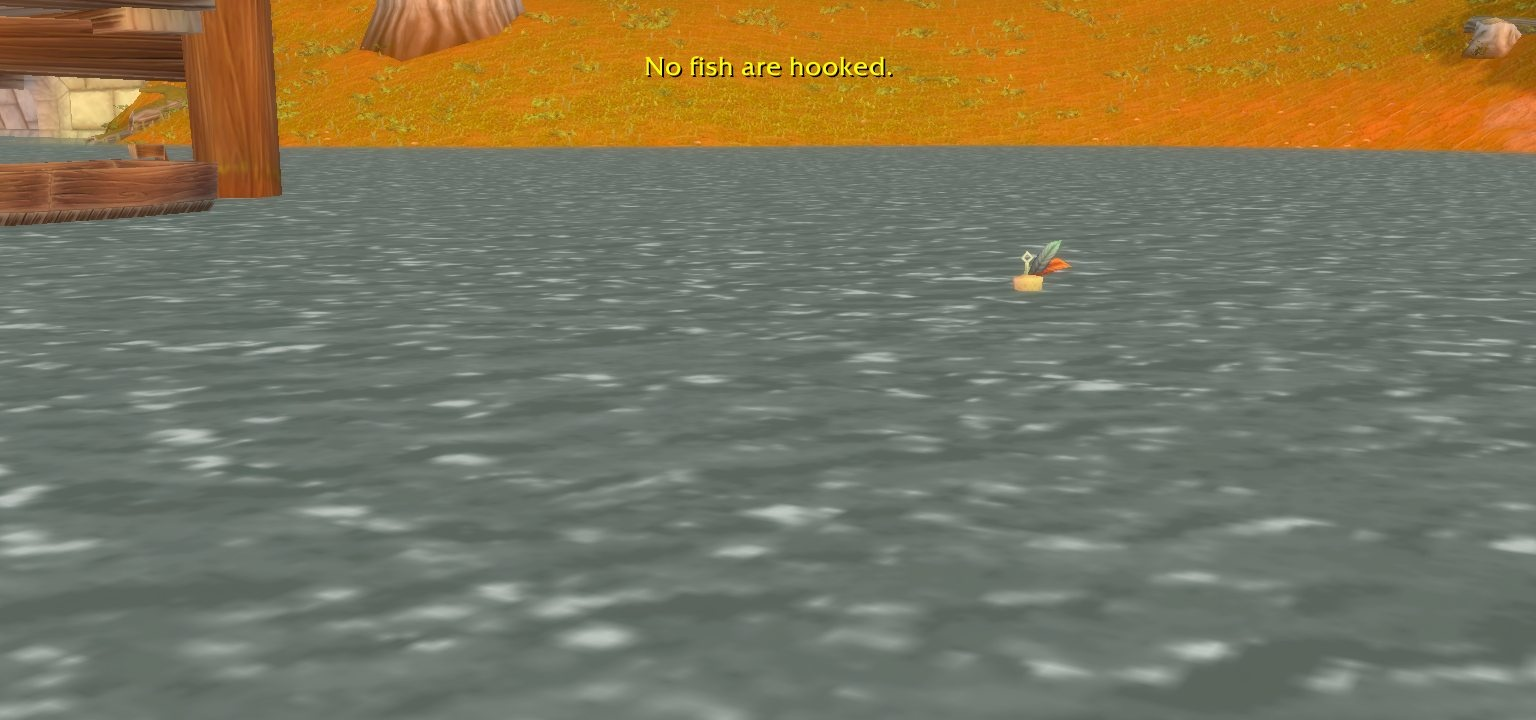Bobber: (1012, 238, 1073, 292)
